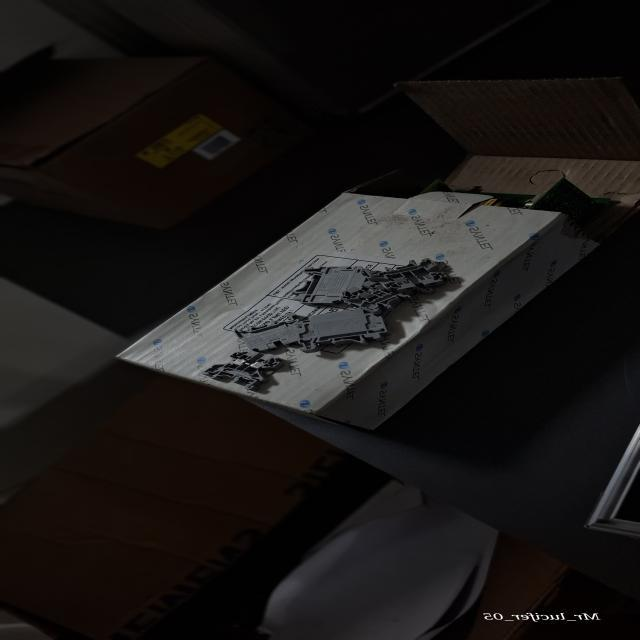Inverted: (228, 312, 306, 352)
Pass: (202, 349, 288, 392)
Reject: (364, 258, 458, 292)
